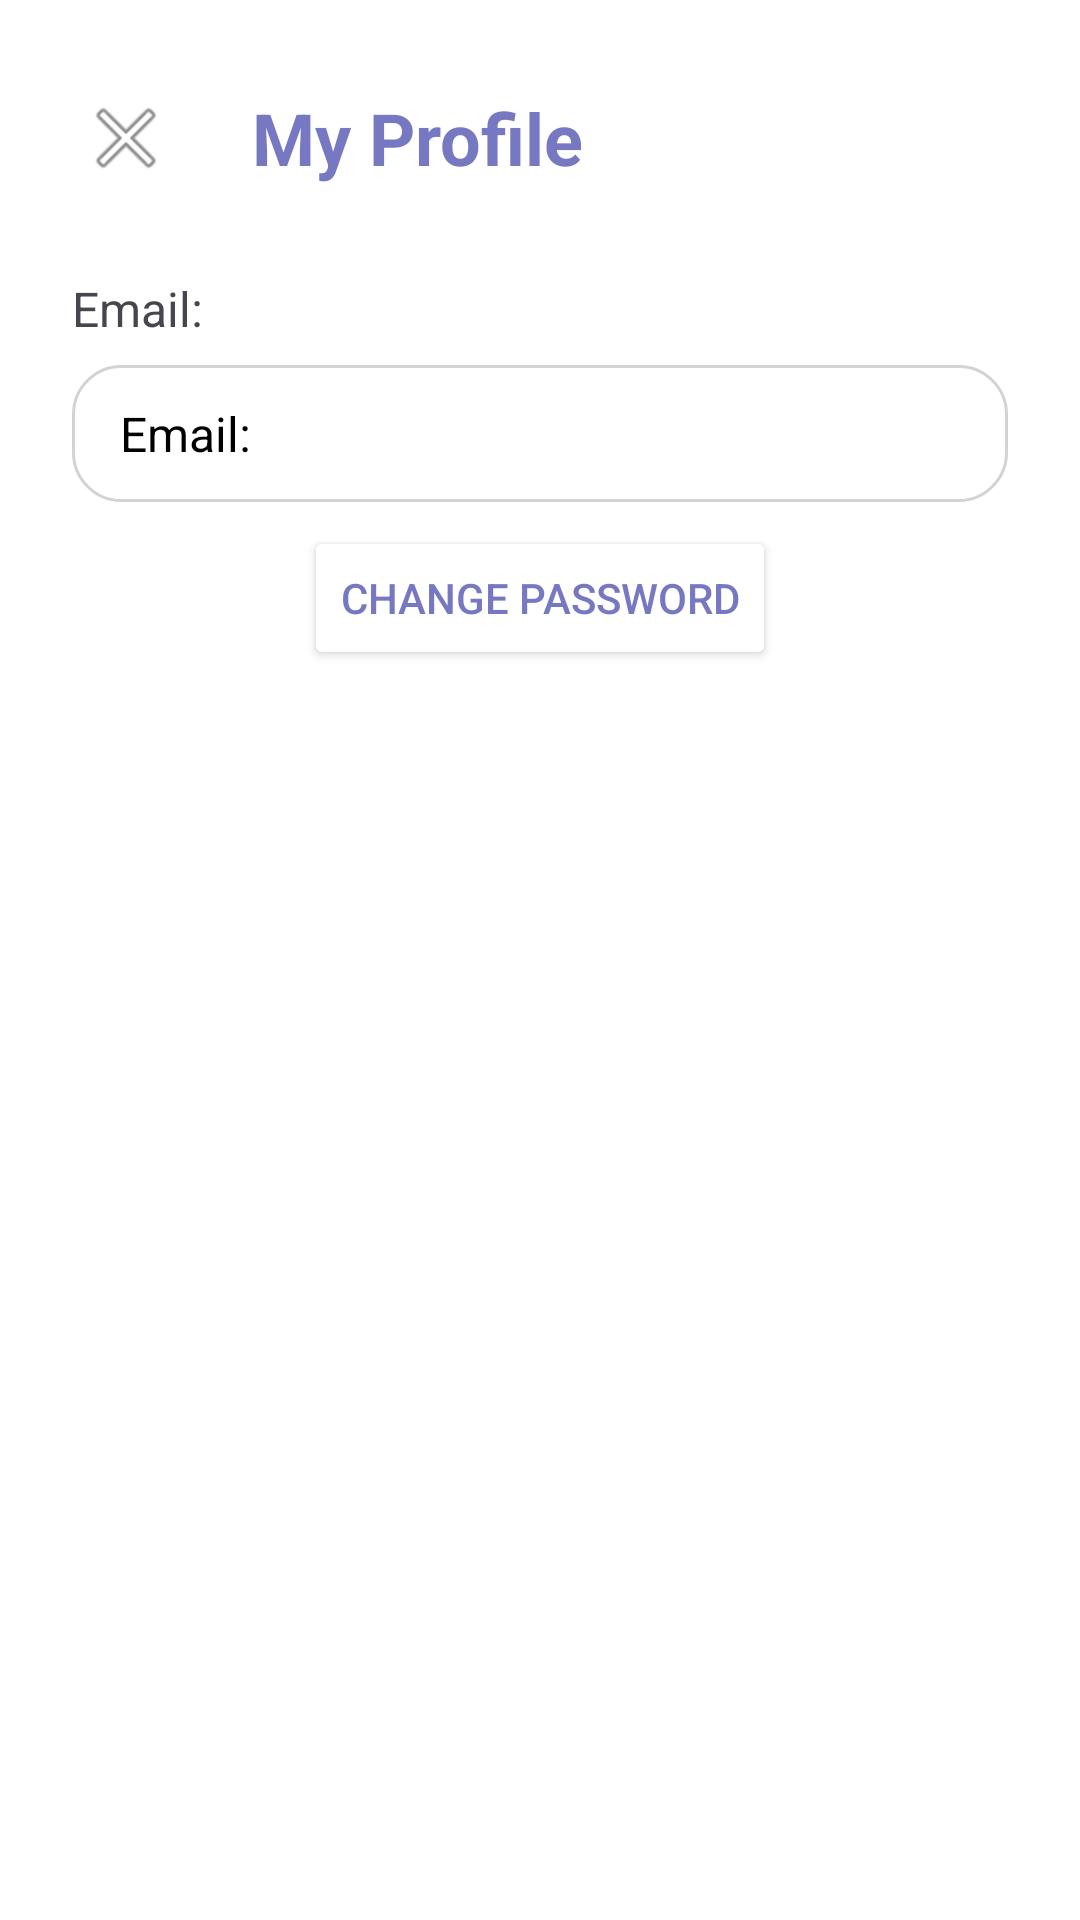

Icons on this 1080x1920 Android screen, each with the point to tap as [x,y]:
Exit Profile: [126,138]
